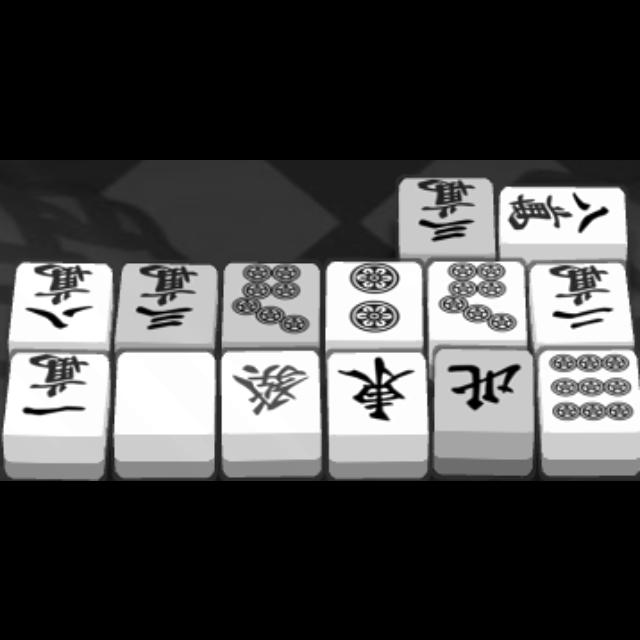1m: (9, 351, 102, 451)
2m: (533, 263, 629, 341)
2p: (328, 261, 414, 343)
3m: (120, 264, 214, 342), (400, 176, 488, 254)
7p: (428, 260, 524, 344), (224, 262, 316, 342)
8m: (501, 184, 622, 252), (15, 263, 106, 349)
9m: (542, 352, 640, 461)
haku: (116, 353, 214, 455)
hatsu: (219, 351, 321, 457)
pe: (434, 350, 538, 462)
tou: (326, 350, 424, 460)
